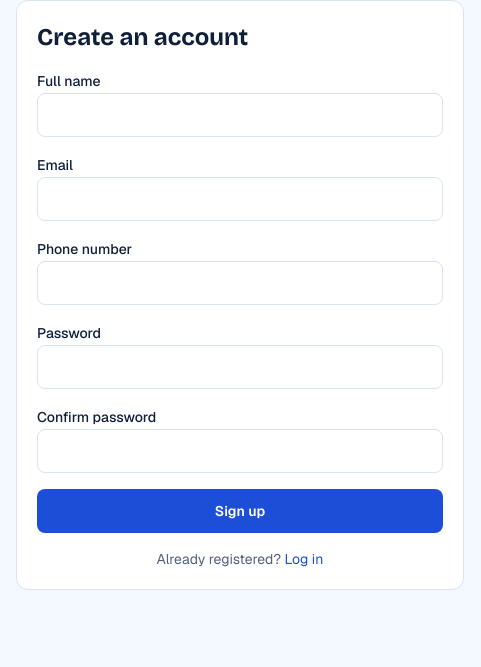
it: Sign up form › rejects mismatched passwords before calling the API
This screenshot has width=481, height=667.
In the field labelled "Full name": (240, 115) [37, 93, 443, 137], type "Test User"
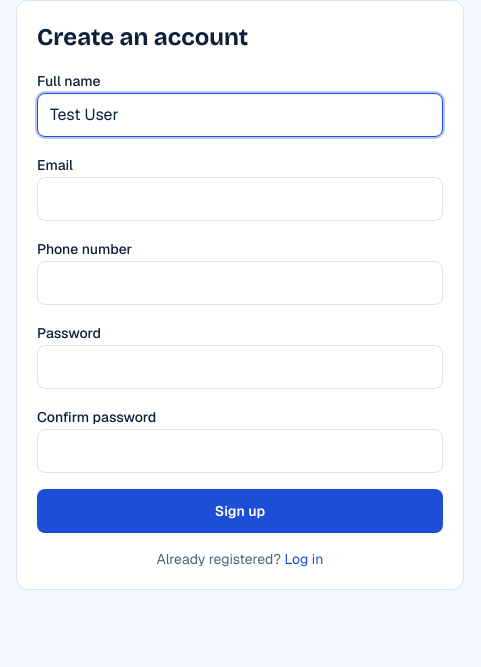
In the field labelled "Email": (240, 199) [37, 177, 443, 221], type "t@test.dev"
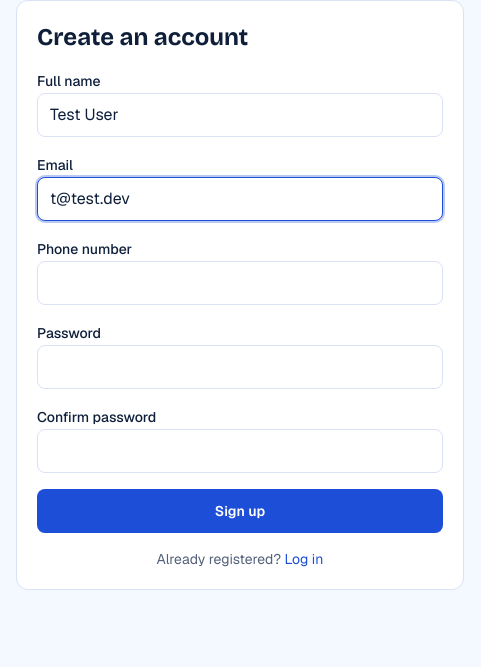
In the field labelled "Phone number": (240, 283) [37, 261, 443, 305], type "0812345678"
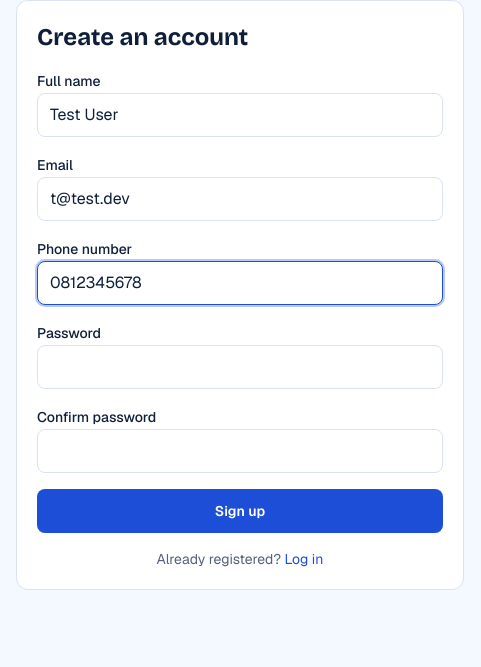
In the password field labelled "Password": (240, 367) [37, 345, 443, 389], type "secret1"
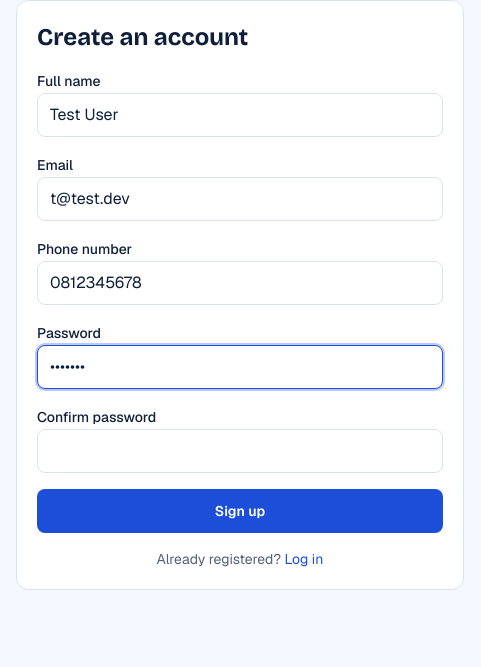
In the password field labelled "Confirm password": (240, 451) [37, 429, 443, 473], type "different"
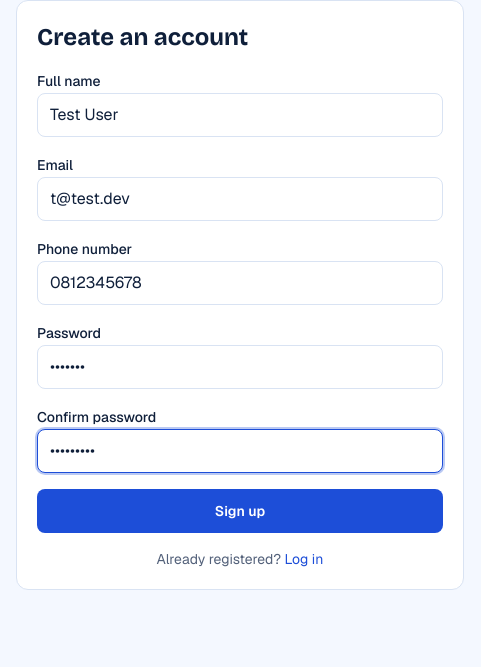
Click the button "Sign up": (240, 511) [37, 489, 443, 533]
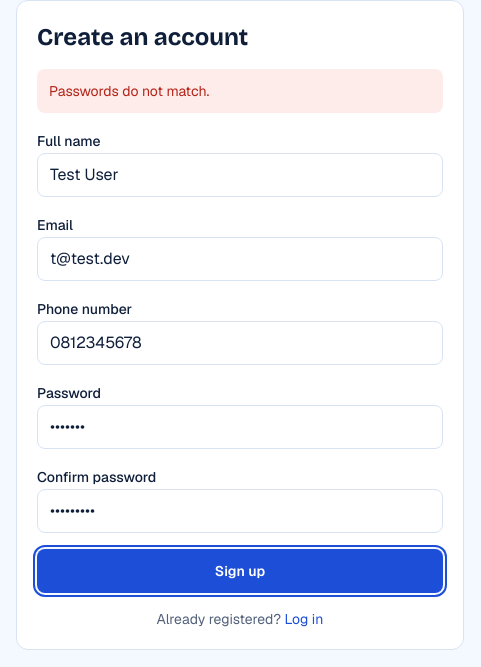
Expected: the message shows "do not match", [49, 82, 209, 100]
